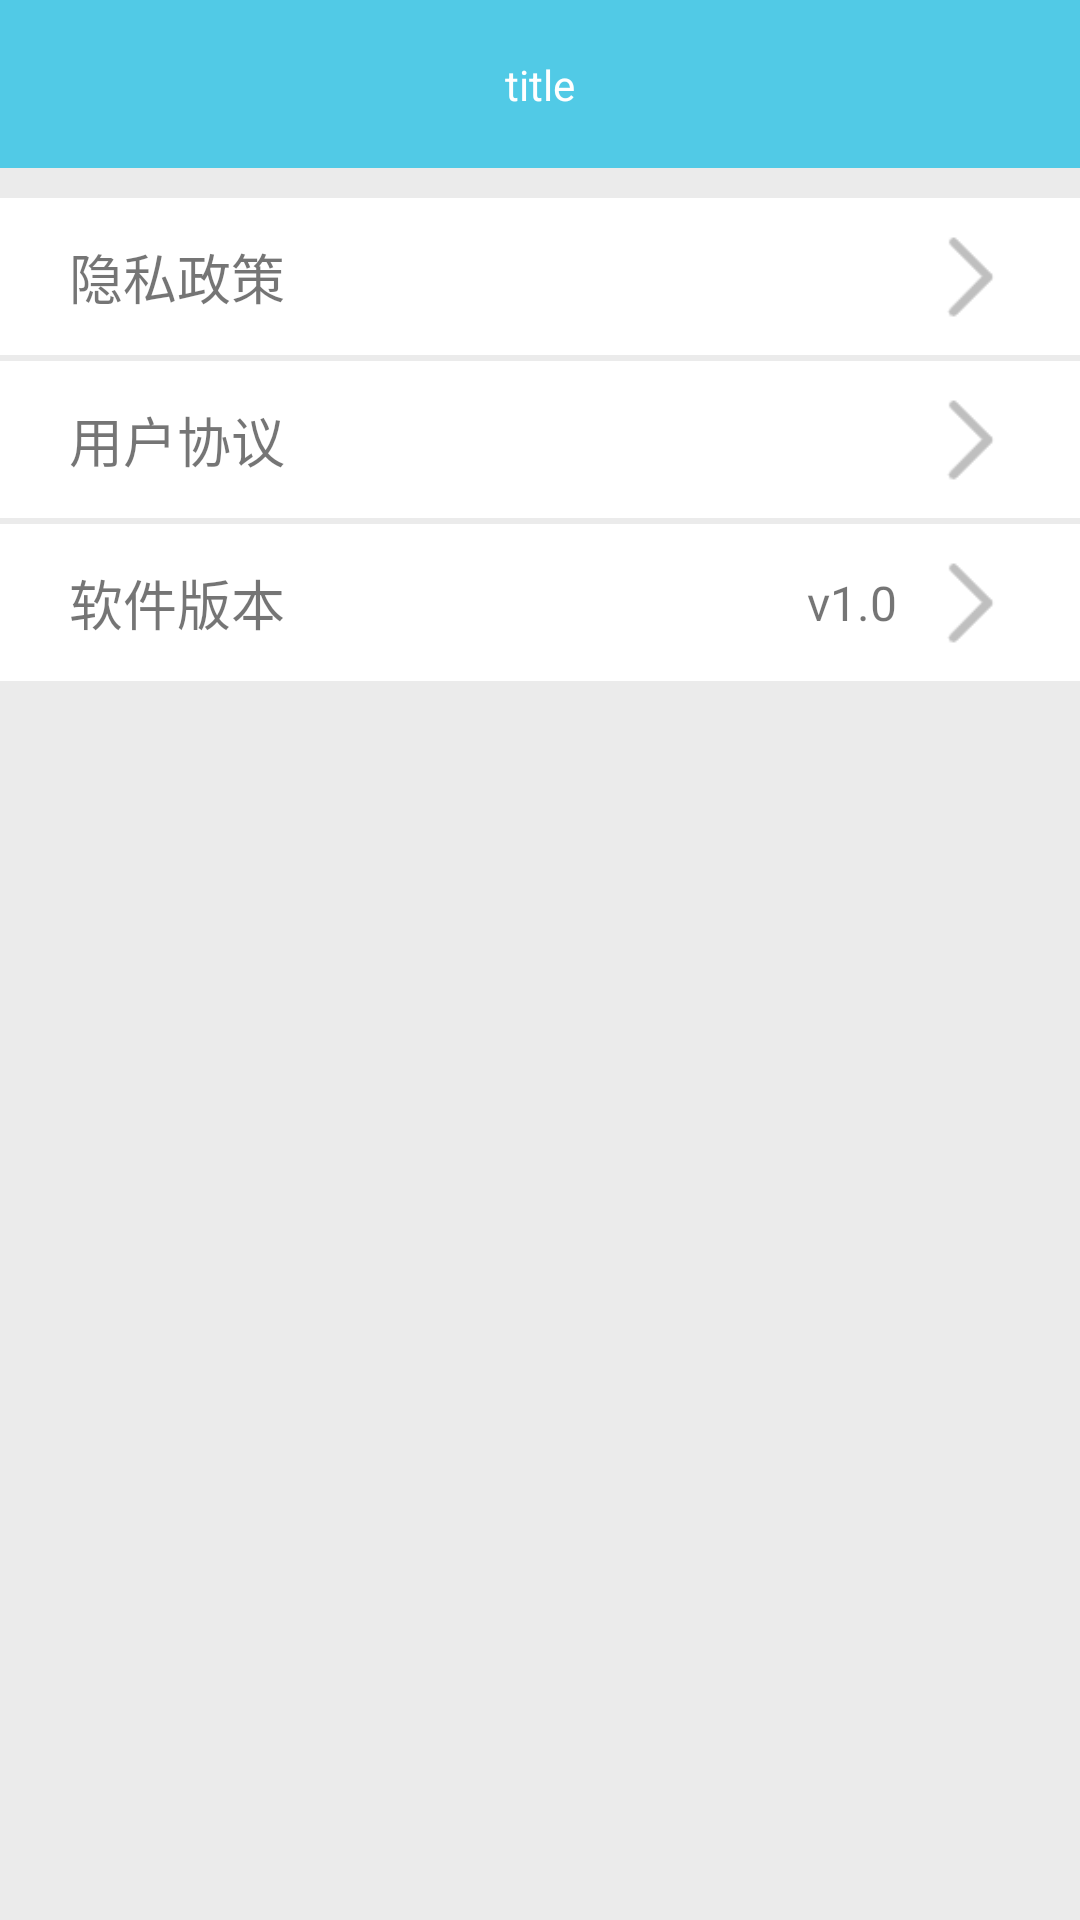

Named icons in this screenshot (1080px x 1920px) and their centers, [x,y]:
right back: [971,276], [971,439], [971,602]
